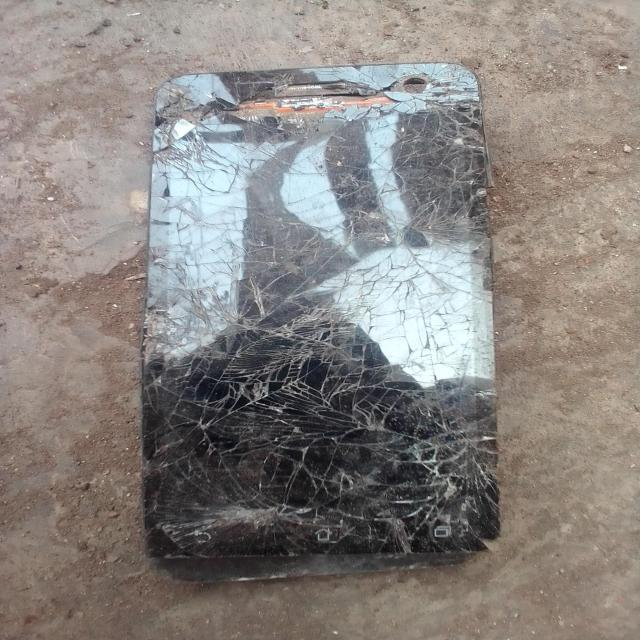phone: (145, 64, 510, 580)
